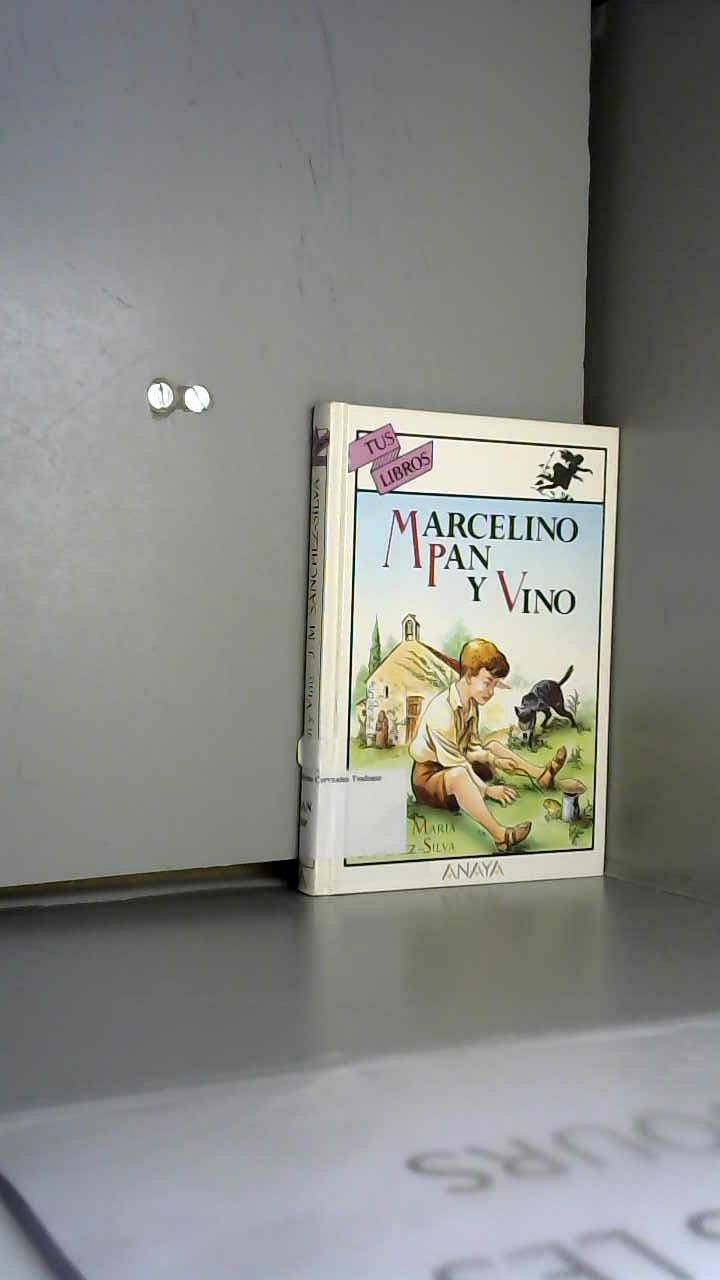book: (270, 360, 719, 915)
